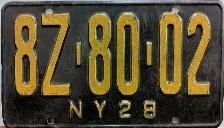0: (156, 11, 185, 98), (114, 10, 142, 99)
2: (184, 12, 216, 97)
8: (11, 12, 40, 97), (86, 11, 114, 97)
Z: (39, 12, 73, 98)
